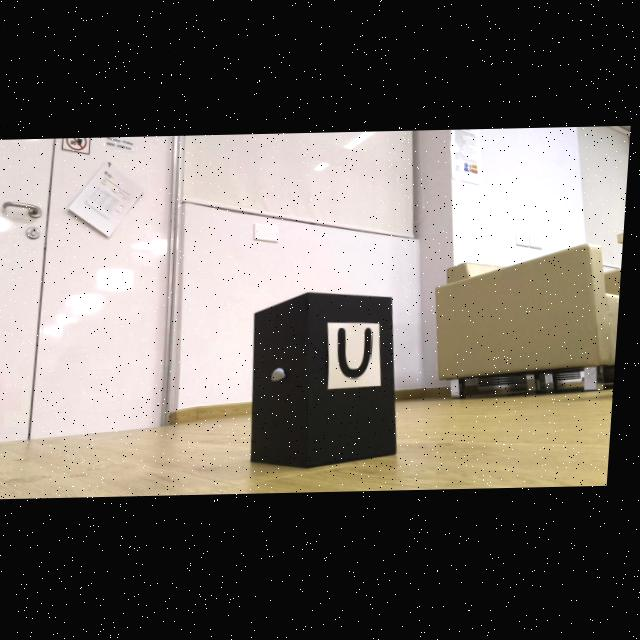U: (343, 330, 377, 380)
